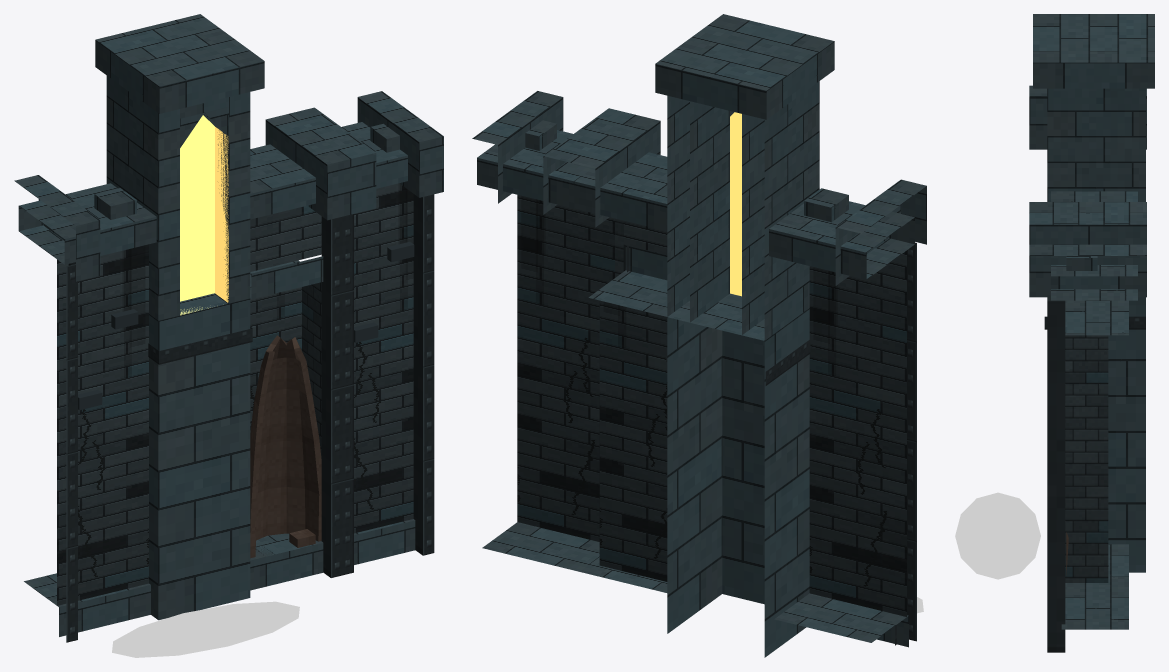
File: T1_End_A.fbx
3 views of the same model, side by side, from view 1: azimuth 30°, elevation 25°; view 2: azimuth 150°, elevation 25°; view 3: azimuth 270°, elevation 25° (orthographic). The views are drawn at different scales.
Visible parts, largest first — view 1: T1_End_A; view 2: T1_End_A; view 3: T1_End_A.
Boxes of the visible parts, box(x1,y1,x2,y2) form: T1_End_A: box(14, 14, 443, 657); T1_End_A: box(472, 14, 926, 657); T1_End_A: box(955, 14, 1154, 652).
Bounding box in the file's own units: 4.5 × 6.32 × 2.23.
